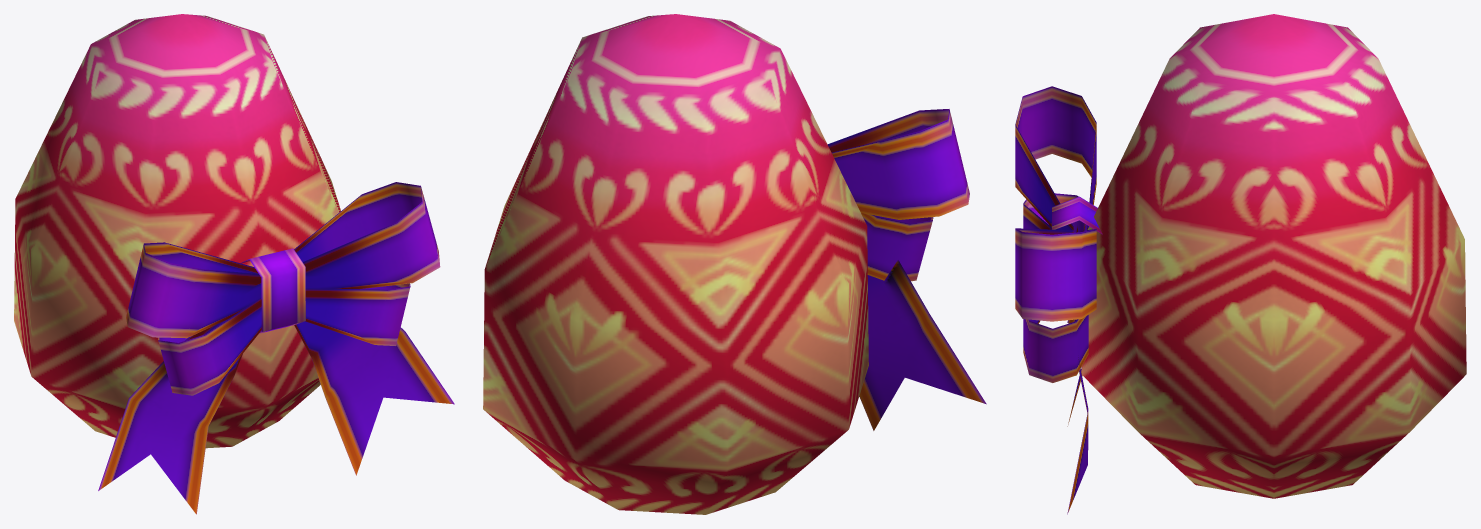
Rendered from Egg_01.FBX.
The picture shows the model from 3 angles, left to right: view 1: azimuth 30°, elevation 25°; view 2: azimuth 150°, elevation 25°; view 3: azimuth 270°, elevation 25°; orthographic projection. The views are drawn at different scales.
Parts seen in each view (by area): view 1: Egg_01; view 2: Egg_01; view 3: Egg_01.
Boxes of the visible parts, x1,y1,x2,y2 form: Egg_01: (14, 14, 454, 514); Egg_01: (483, 14, 986, 514); Egg_01: (1015, 14, 1466, 514).
Bounding box in the file's own units: 0.5564 × 0.6156 × 0.551.
